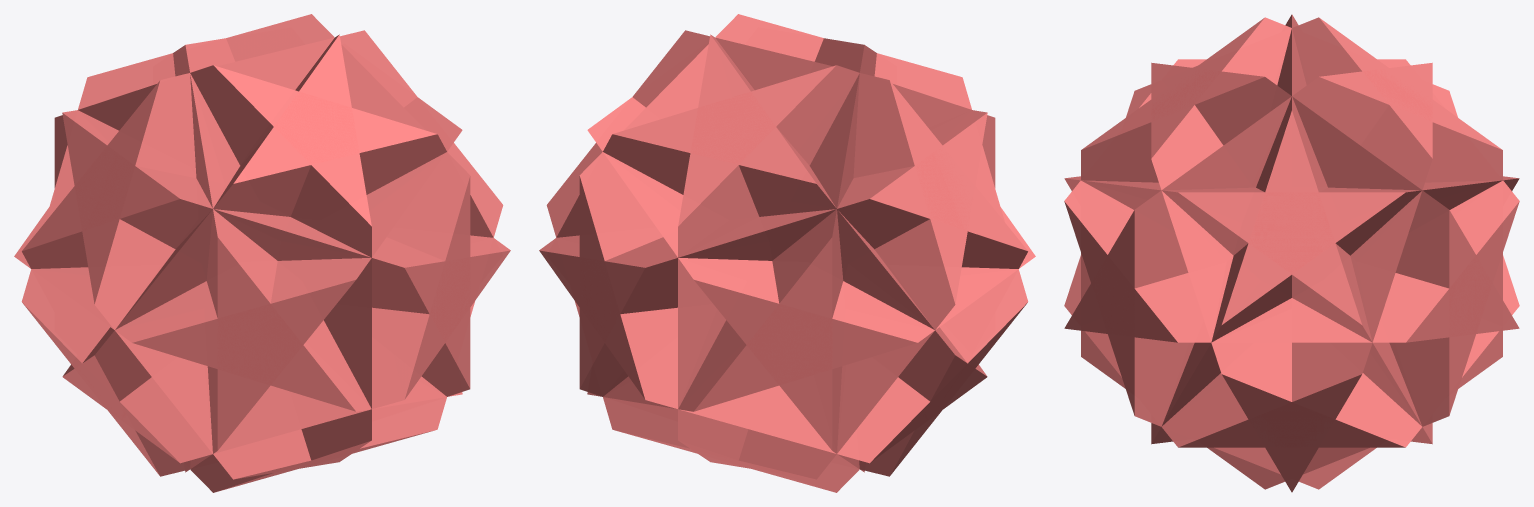
File: fractaltruncatedgreaticosahedron0.glb
3 renders of one model, left to right at view 1: azimuth 30°, elevation 25°; view 2: azimuth 150°, elevation 25°; view 3: azimuth 270°, elevation 25°, orthographic. The views are drawn at different scales.
Bounding box in the file's own units: 11.18 × 11.18 × 11.18.
